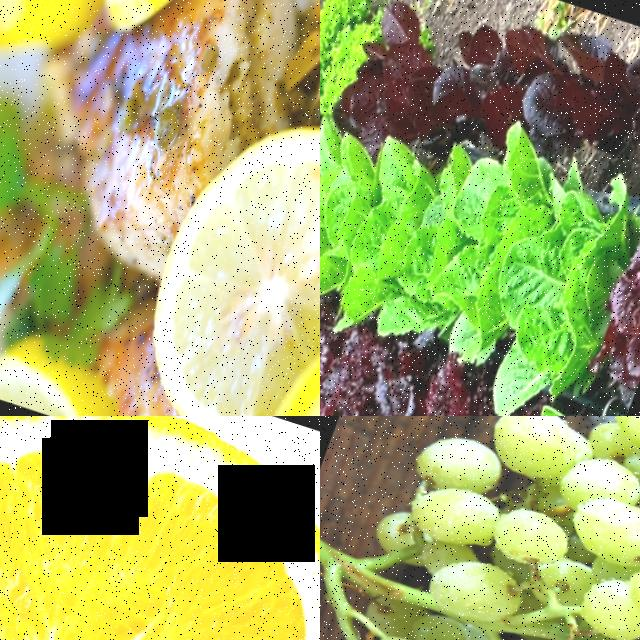grapes: (320, 416, 640, 640)
lemon: (0, 416, 320, 640), (119, 105, 320, 416)
lettuce: (497, 171, 640, 397), (420, 143, 569, 352), (327, 133, 468, 330), (320, 134, 391, 288), (320, 0, 382, 138)
